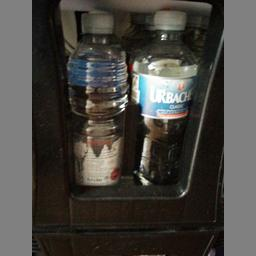water: (130, 9, 196, 185), (66, 10, 127, 185)
